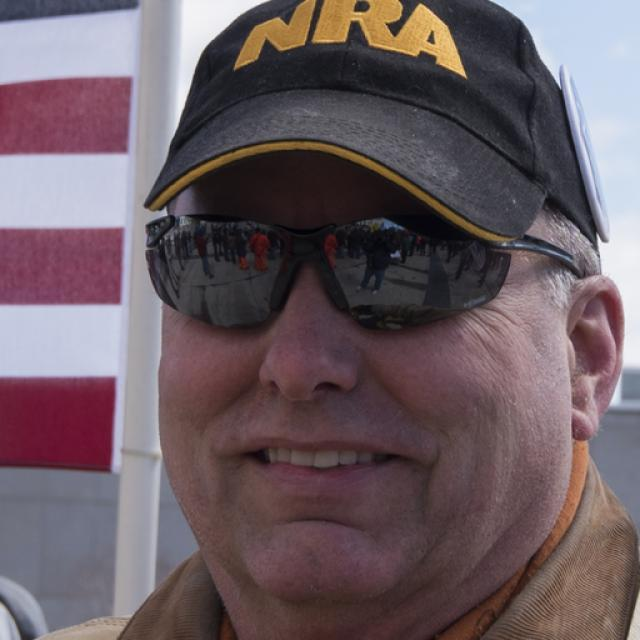surprise: (153, 128, 566, 606)
